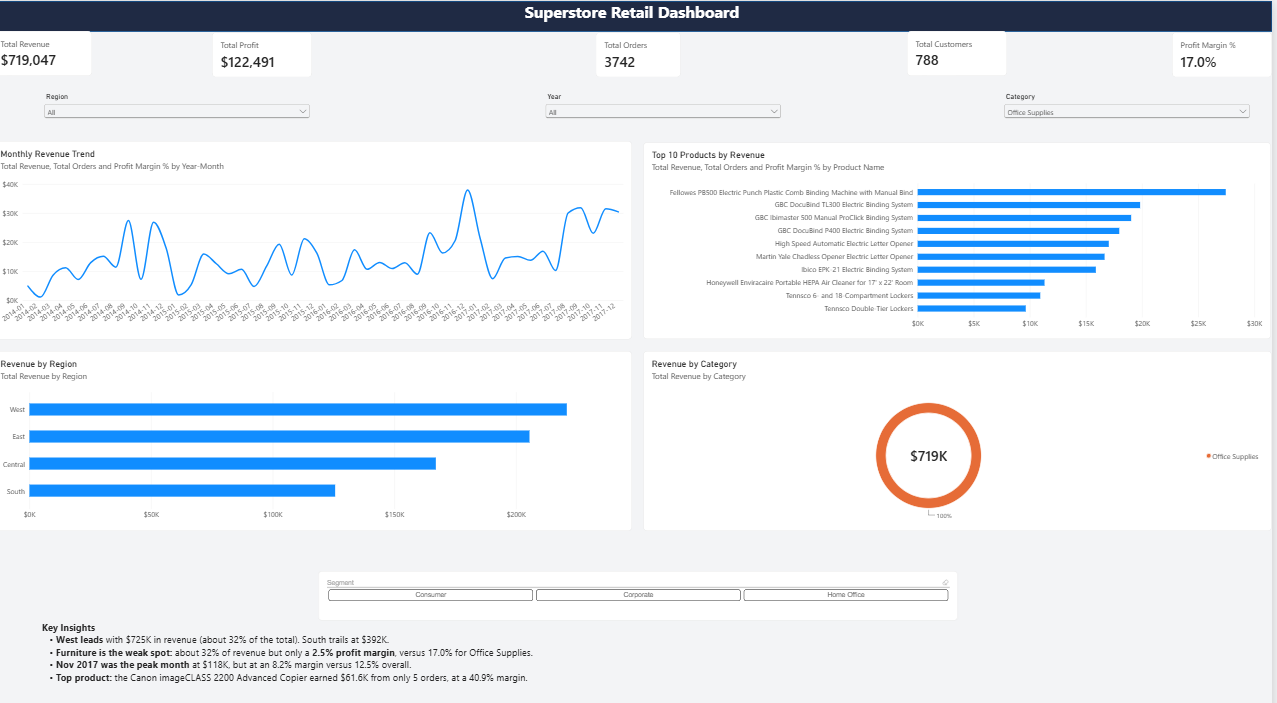

The page's visual inventory and layout, read from the dashboard file:
{"tool":"powerbi","page":{"name":"Overview","canvas":[2560,1440],"ordinal":0},"visuals":[{"type":"shape","box":[0,0,2560,61.5],"z":0},{"type":"textbox","box":[0,0,2560,69.7],"z":1000},{"type":"cardVisual","fields":{"Data":["Measures (2).Total Profit"]},"box":[439.1,62.7,200,90],"z":2000},{"type":"cardVisual","fields":{"Data":["Measures (2).Total Revenue"]},"box":[0,60.3,200,90],"z":3000},{"type":"cardVisual","fields":{"Data":["Measures (2).Total Customers"]},"box":[1829,60.3,200,90],"z":4000},{"type":"cardVisual","fields":{"Data":["Measures (2).Total Orders"]},"box":[1206.4,62.7,170,90],"z":5000},{"type":"cardVisual","fields":{"Data":["Measures (2).Profit Margin %"]},"box":[2359,61.5,200,90],"z":6000},{"type":"lineChart","title":"Monthly Revenue Trend","fields":{"Category":["DateTable.Year-Month"],"Y":["Measures (2).Total Revenue"]},"box":[0,280,1280,396.7],"z":7000},{"type":"clusteredBarChart","title":"Top 10 Products by Revenue","fields":{"Category":["Sales.Product Name"],"Y":["Measures (2).Total Revenue"]},"box":[1303.3,283.3,1255.4,393.8],"z":8000},{"type":"clusteredBarChart","title":"Revenue by Region","fields":{"Category":["Sales.Region"],"Y":["Measures (2).Total Revenue"]},"box":[0,700,1280,360],"z":9000},{"type":"donutChart","title":"Revenue by Category","fields":{"Category":["Sales.Category"],"Y":["Measures (2).Total Revenue"]},"box":[1303.3,700,1256.7,360],"z":10000},{"type":"slicer","fields":{"Values":["Sales.Region"]},"box":[100,183.3,540,83.3],"z":11000},{"type":"slicer","fields":{"Values":["Sales.Category"]},"box":[2020,183.3,500,53.3],"z":12000},{"type":"slicer","fields":{"Values":["DateTable.Year"]},"box":[1103.3,183.3,480,106.7],"z":13000},{"type":"ChicletSlicer1448559807354","fields":{"Category":["Sales.Segment"]},"box":[652.6,1140,1279,99.6],"z":14000},{"type":"textbox","box":[100,1240,1275,200],"z":14002}]}

Visuals, with their boxes in screenshot pixels (x1, y1, x2, y2), scaled from the page's 2560x1440 canvas onto the 1277x703 screenshot:
shape: rect(0, 0, 1276, 30)
textbox: rect(0, 0, 1276, 34)
cardVisual - Measures (2).Total Profit: rect(219, 31, 319, 75)
cardVisual - Measures (2).Total Revenue: rect(0, 29, 100, 73)
cardVisual - Measures (2).Total Customers: rect(912, 29, 1012, 73)
cardVisual - Measures (2).Total Orders: rect(602, 31, 687, 75)
cardVisual - Measures (2).Profit Margin %: rect(1177, 30, 1276, 74)
"Monthly Revenue Trend" lineChart: rect(0, 137, 638, 330)
"Top 10 Products by Revenue" clusteredBarChart: rect(650, 138, 1276, 331)
"Revenue by Region" clusteredBarChart: rect(0, 342, 638, 517)
"Revenue by Category" donutChart: rect(650, 342, 1276, 517)
slicer - Sales.Region: rect(50, 89, 319, 130)
slicer - Sales.Category: rect(1008, 89, 1257, 116)
slicer - DateTable.Year: rect(550, 89, 790, 142)
ChicletSlicer1448559807354 - Sales.Segment: rect(326, 557, 964, 605)
textbox: rect(50, 605, 686, 702)
